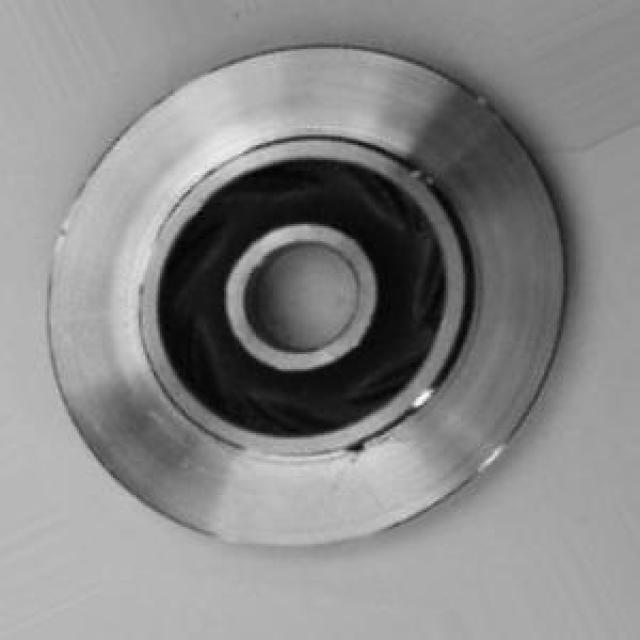Defect: (344, 437, 371, 460)
